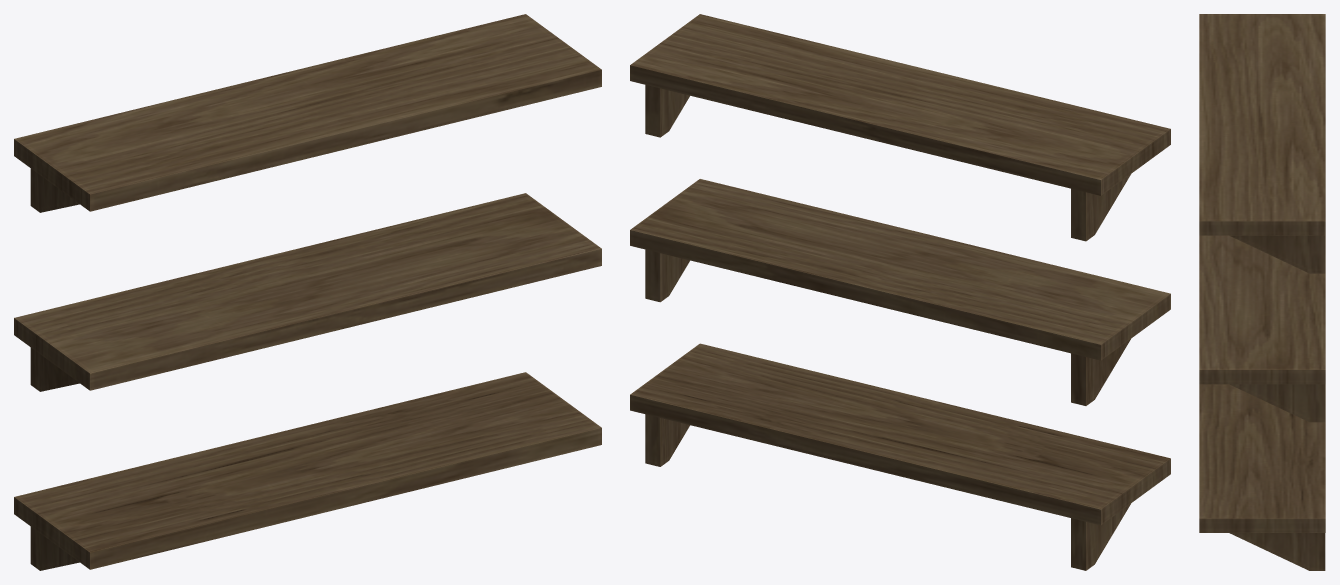
The model's file is sb_obj_indoor021_WallShalf03b.fbx.
3 views of the same model, side by side, from view 1: azimuth 30°, elevation 25°; view 2: azimuth 150°, elevation 25°; view 3: azimuth 270°, elevation 25° (orthographic). The views are drawn at different scales.
Visible parts, largest first — view 1: sb_obj_indoor021_WallShalf03b; view 2: sb_obj_indoor021_WallShalf03b; view 3: sb_obj_indoor021_WallShalf03b.
Boxes of the visible parts, box(x1,y1,x2,y2) form: sb_obj_indoor021_WallShalf03b: box(14, 14, 601, 570); sb_obj_indoor021_WallShalf03b: box(630, 14, 1170, 570); sb_obj_indoor021_WallShalf03b: box(1199, 14, 1325, 570).
Bounding box in the file's own units: 1.5 × 1.2 × 0.3851.
